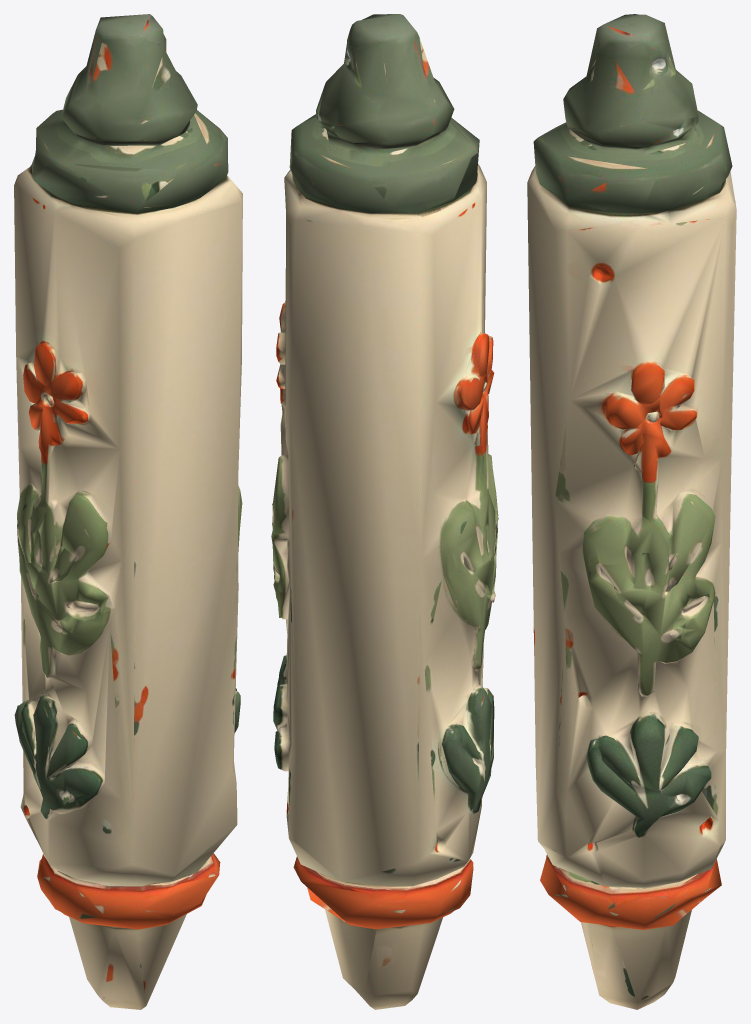
The model's file is marker.glb.
3 views of the same model, side by side, from view 1: azimuth 30°, elevation 25°; view 2: azimuth 150°, elevation 25°; view 3: azimuth 270°, elevation 25° (orthographic).
Parts seen in each view (by area): view 1: tripo_node_8d1a2667-995a-4836-9b84-5b51d16cc22c; view 2: tripo_node_8d1a2667-995a-4836-9b84-5b51d16cc22c; view 3: tripo_node_8d1a2667-995a-4836-9b84-5b51d16cc22c.
Part boxes in pixels (x1=…): tripo_node_8d1a2667-995a-4836-9b84-5b51d16cc22c: x1=14, y1=14, x2=242, y2=1009; tripo_node_8d1a2667-995a-4836-9b84-5b51d16cc22c: x1=271, y1=14, x2=498, y2=1009; tripo_node_8d1a2667-995a-4836-9b84-5b51d16cc22c: x1=527, y1=14, x2=736, y2=1009.
Bounding box in the file's own units: 0.0377 × 0.1796 × 0.0349.
1 material, 1 textured.
